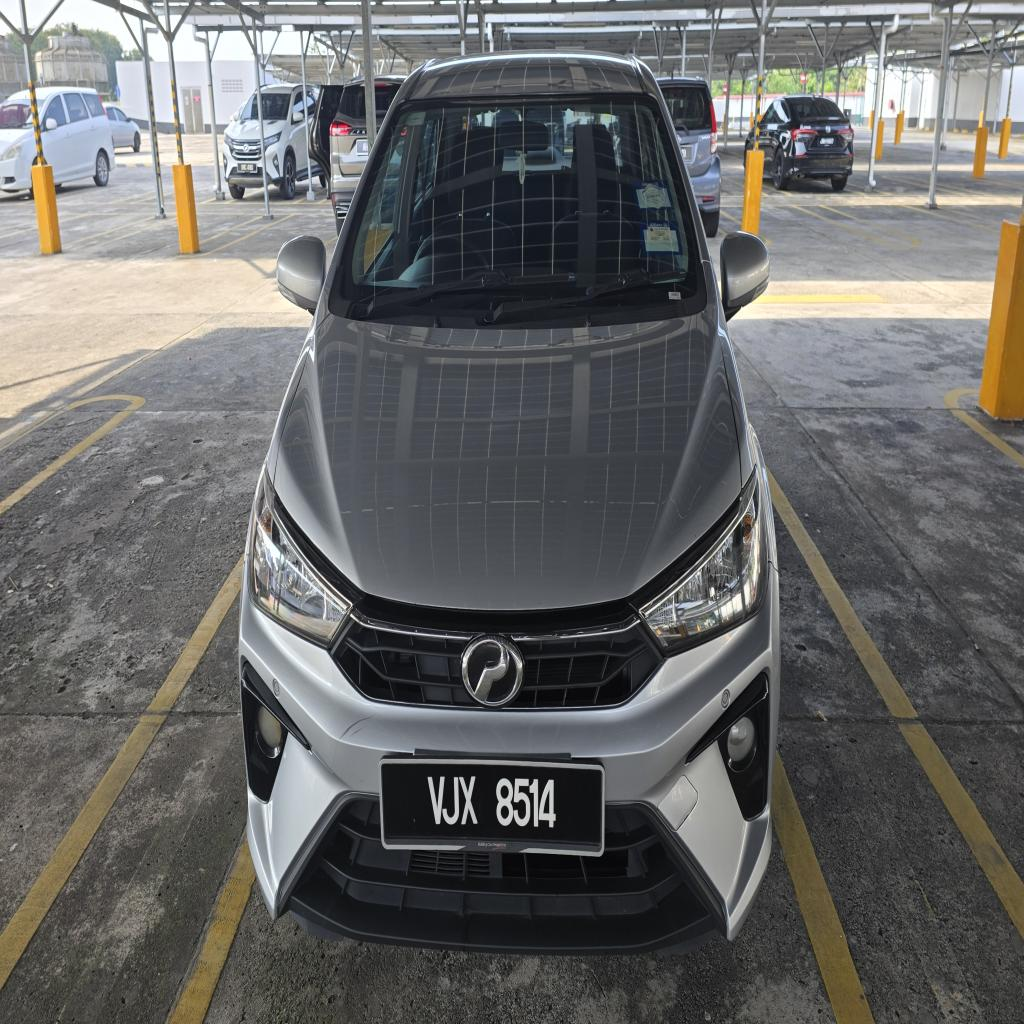car: (239, 53, 779, 953)
car plate: (381, 758, 604, 855)
